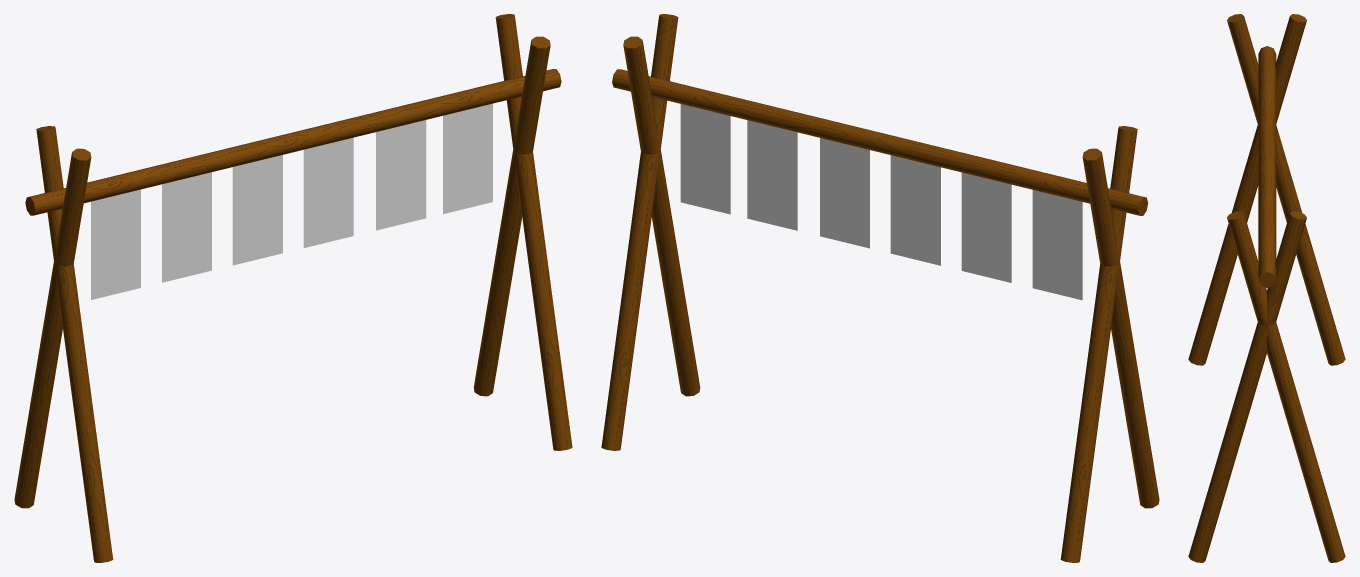
The model's file is PostePescado.FBX.
The picture shows the model from 3 angles, left to right: view 1: azimuth 30°, elevation 25°; view 2: azimuth 150°, elevation 25°; view 3: azimuth 270°, elevation 25°; orthographic projection. The views are drawn at different scales.
Visible parts, largest first — view 1: PaloMadera005, PaloMadera, PaloMadera004, PaloMadera001, PaloMadera003, Pescado002, Pescado004, Pescado003, Pescado005, Pescado001, Pescado006; view 2: PaloMadera005, PaloMadera001, PaloMadera003, PaloMadera, PaloMadera004, Pescado002, Pescado005, Pescado004, Pescado001, Pescado006, Pescado003; view 3: PaloMadera001, PaloMadera, PaloMadera004, PaloMadera003, PaloMadera005.
Part boxes in pixels (box(x1,y1,x2,y2)): PaloMadera005: box(25, 69, 561, 215); PaloMadera: box(495, 14, 572, 450); PaloMadera004: box(36, 126, 113, 562); PaloMadera001: box(473, 36, 550, 396); PaloMadera003: box(14, 148, 91, 508); Pescado002: box(232, 155, 282, 265); Pescado004: box(376, 120, 426, 230); Pescado003: box(303, 137, 353, 247); Pescado005: box(443, 103, 492, 213); Pescado001: box(162, 172, 211, 282); Pescado006: box(91, 189, 140, 299); PaloMadera005: box(612, 69, 1148, 215); PaloMadera001: box(601, 14, 678, 450); PaloMadera003: box(1060, 126, 1137, 562); PaloMadera: box(623, 36, 700, 396); PaloMadera004: box(1082, 148, 1159, 508); Pescado002: box(890, 155, 940, 265); Pescado005: box(680, 104, 730, 214); Pescado004: box(747, 120, 797, 230); Pescado001: box(961, 172, 1011, 282); Pescado006: box(1032, 190, 1082, 300); Pescado003: box(820, 138, 869, 248); PaloMadera001: box(1227, 211, 1345, 562); PaloMadera: box(1188, 211, 1306, 562); PaloMadera004: box(1188, 14, 1306, 365); PaloMadera003: box(1227, 14, 1345, 365); PaloMadera005: box(1258, 46, 1276, 287).
Bounding box in the file's own units: 300 × 215 × 88.22.
